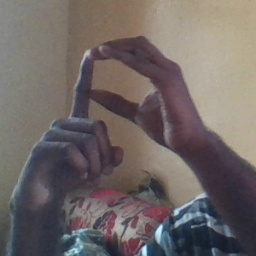P: (25, 34, 200, 191)
